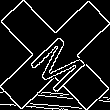M_NE: (21, 21, 89, 89)
